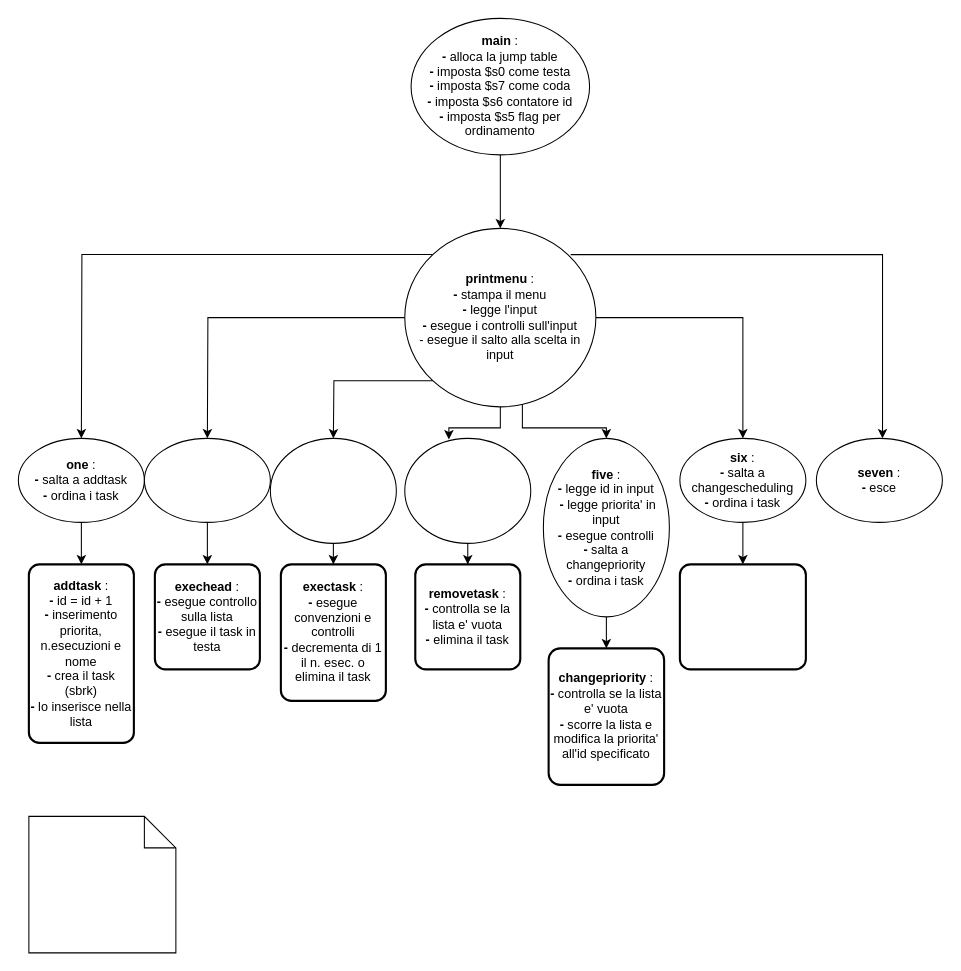
Some shapes in this 961 by 971 pixel diagram are drawn without their labels. The centre of each missing label's shape, as x and y in pixels:
changescheduling : - inverte il valore del registro $s5: (x=742, y=616)
four : - legge id in input - lo passa ad removetask - ordina i task: (x=467, y=490)
I rettangoli squadrati rappresentano le chiamate JAL: (x=102, y=884)
three : - legge id in input - lo passa ad exectask - ordina i task: (x=332, y=490)
two : - salta a exechead - ordina i task: (x=206, y=479)
